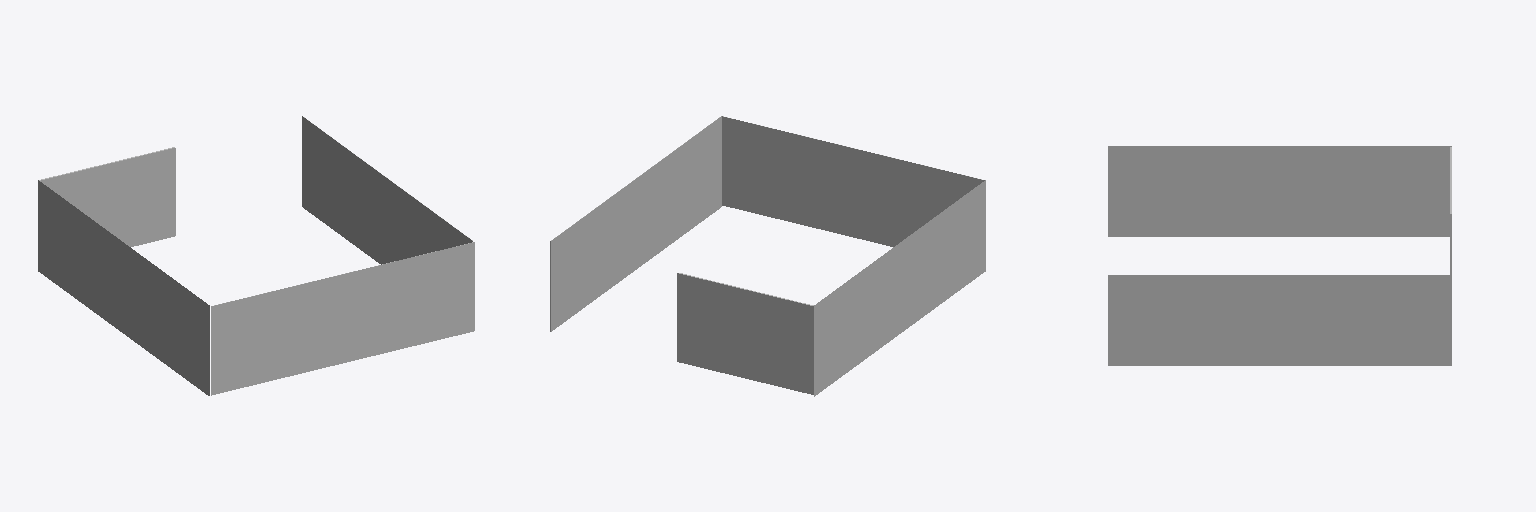
File: CristalesGYM.obj
3 renders of one model, left to right at view 1: azimuth 30°, elevation 25°; view 2: azimuth 150°, elevation 25°; view 3: azimuth 270°, elevation 25°, orthographic.
Bounding box in the file's own units: 7.55 × 2.48 × 8.51.